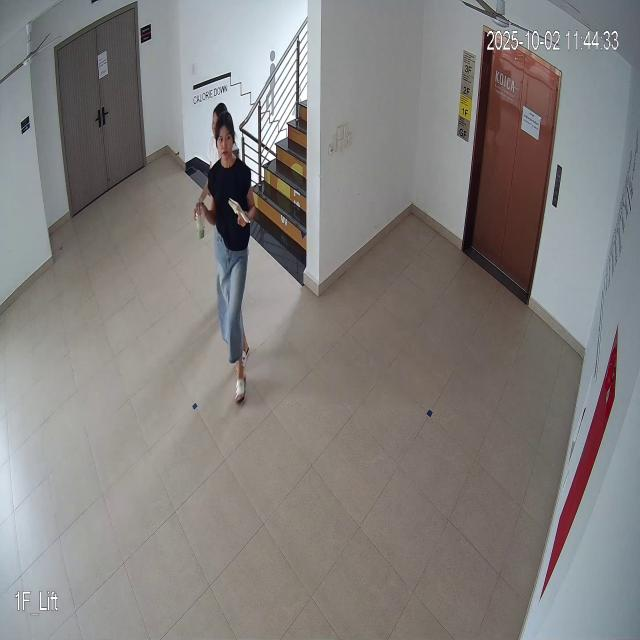face: (214, 112, 242, 168)
